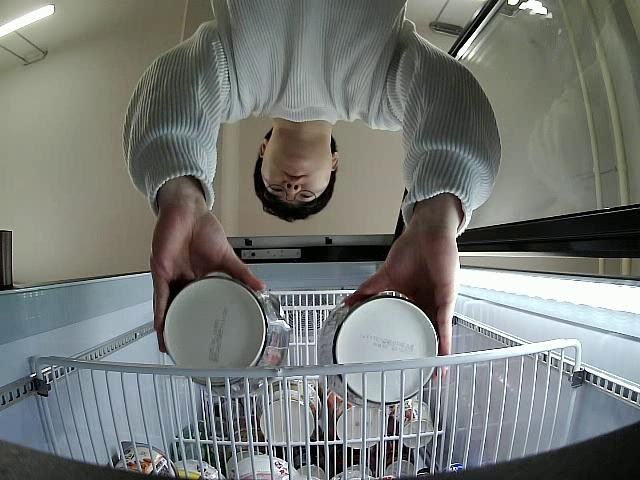00_hand: (343, 217, 459, 384), (150, 205, 265, 355)
07_buldak_L: (160, 277, 289, 397), (317, 290, 439, 405)
